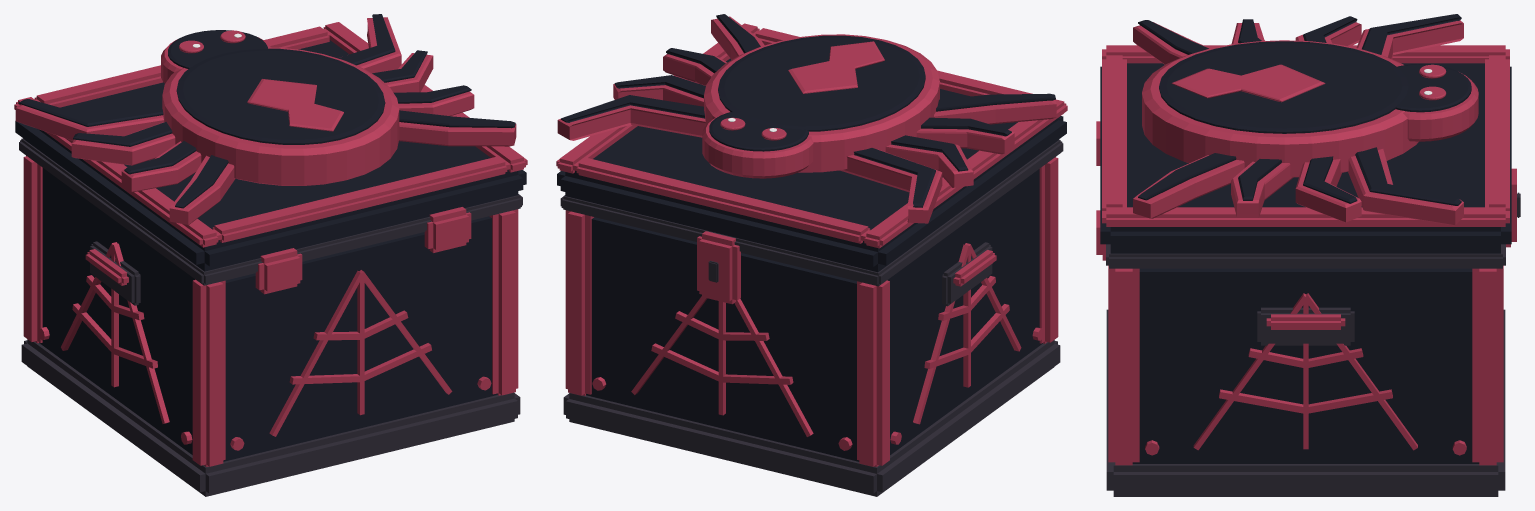
Rendered from crate_aranha.fbx.
3 renders of one model, left to right at view 1: azimuth 30°, elevation 25°; view 2: azimuth 150°, elevation 25°; view 3: azimuth 270°, elevation 25°, orthographic. The views are drawn at different scales.
Visible parts, largest first — view 1: crate_aranha_caixa; view 2: crate_aranha_caixa; view 3: crate_aranha_caixa.
Part boxes in pixels (left/top/right/bottom): crate_aranha_caixa: left=14, top=14, right=527, bottom=496; crate_aranha_caixa: left=556, top=14, right=1067, bottom=496; crate_aranha_caixa: left=1096, top=14, right=1520, bottom=496.
Size of the model in its own units: 2.95 by 2.36 by 2.7.
Materials: 1 (1 with a texture image).
